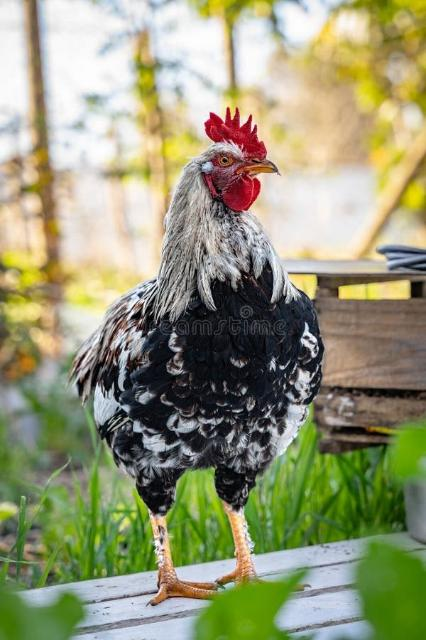Chicken: (78, 107, 324, 606)
